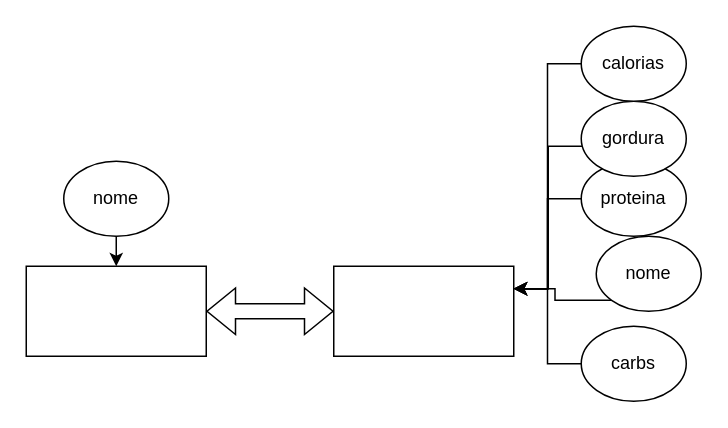
This 728x428 diagram has some shape labels left out. The shapes that lost their labels are listed below. From the top down, each one's centre as x and y in pixels, then its label:
At point 115,310: "Marcas".
At point 423,310: "Alimentos".
